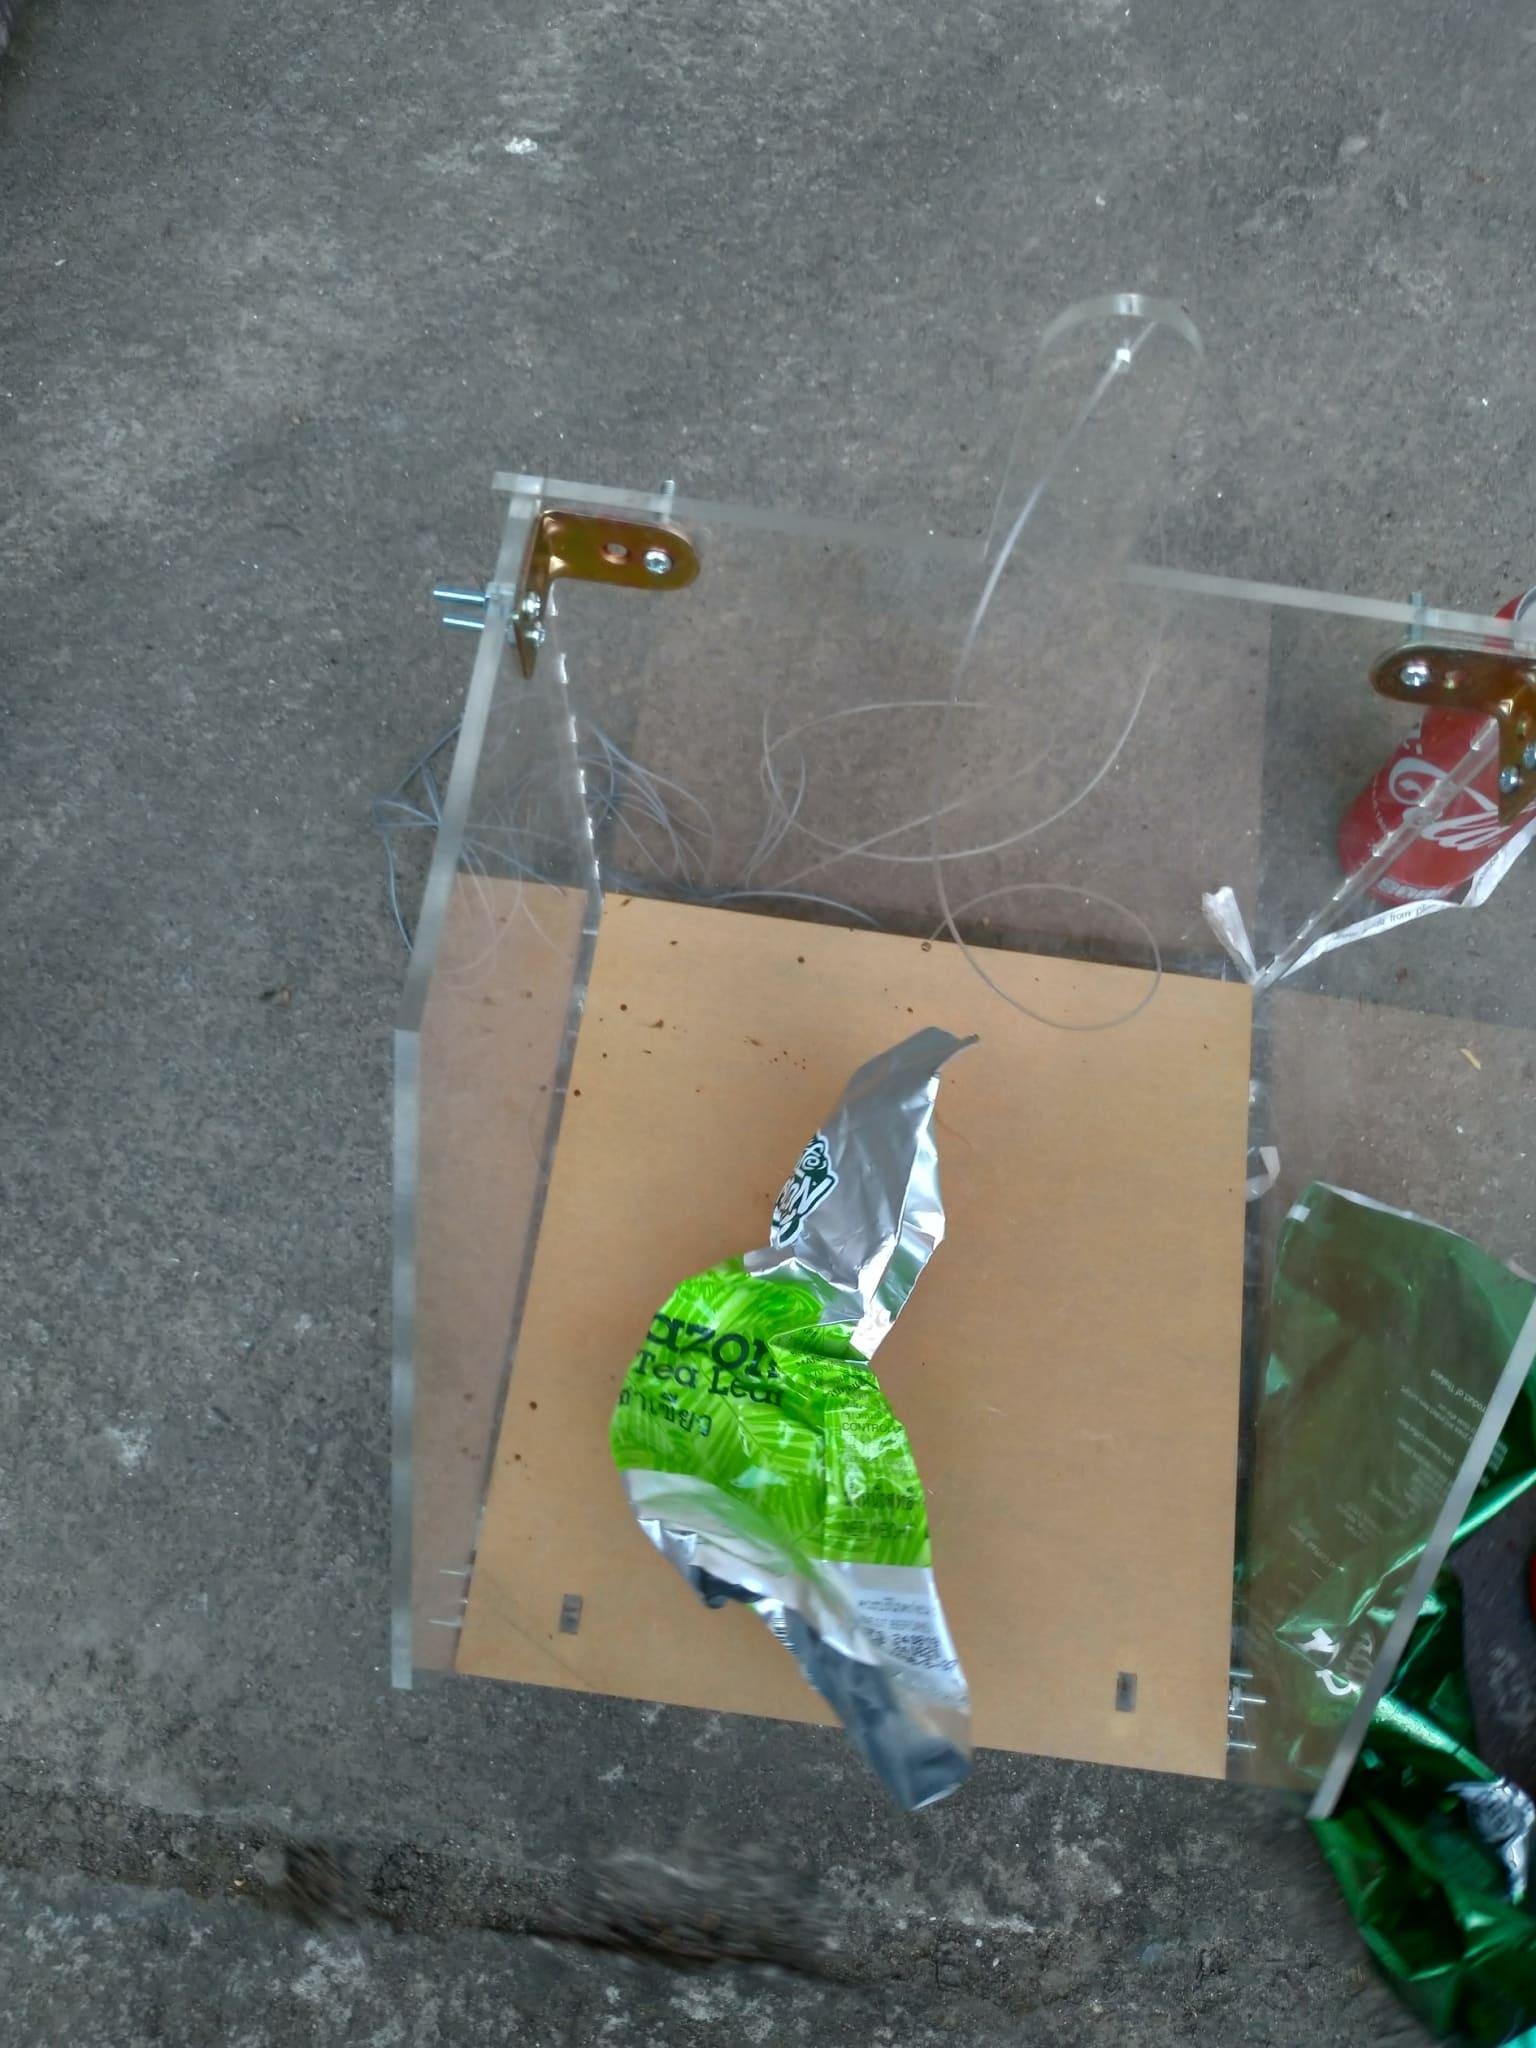AlCan: (1347, 589, 1536, 913)
Others: (607, 1022, 987, 1834), (1238, 1185, 1536, 2022)
